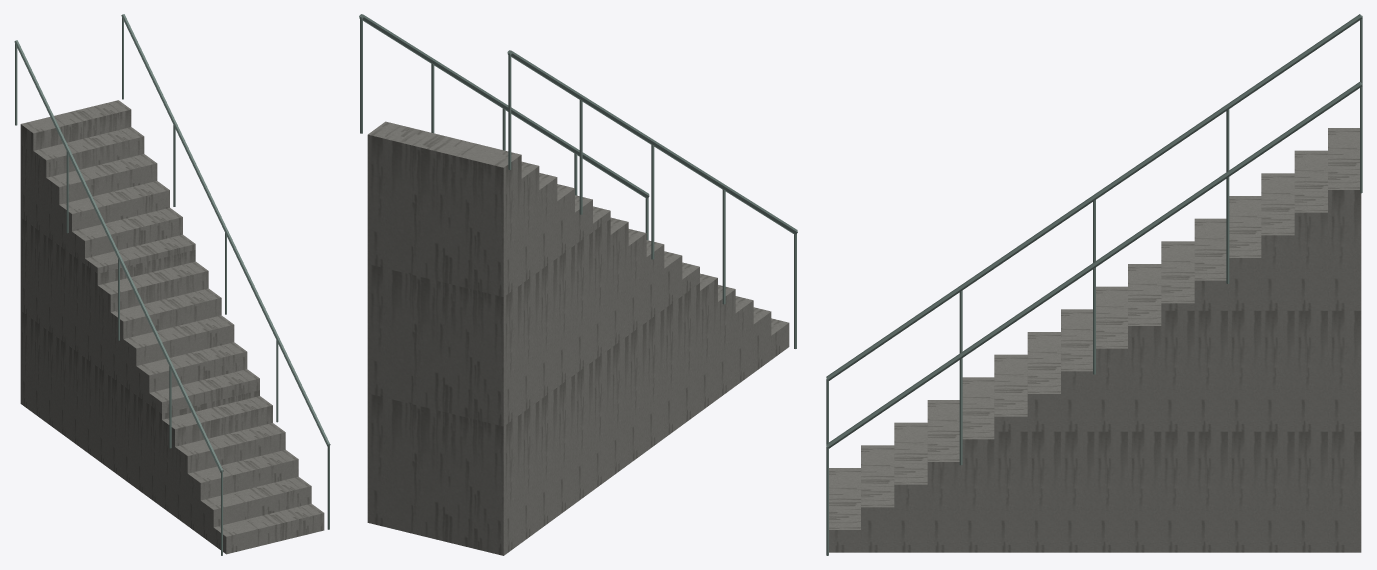
The model's file is stairs_narrow.glb.
3 views of the same model, side by side, from view 1: azimuth 30°, elevation 25°; view 2: azimuth 150°, elevation 25°; view 3: azimuth 270°, elevation 25° (orthographic). The views are drawn at different scales.
Parts seen in each view (by area): view 1: stairs_narrow; view 2: stairs_narrow; view 3: stairs_narrow.
Part boxes in pixels (box(x1,y1,x2,y2)): stairs_narrow: box(14, 14, 330, 555); stairs_narrow: box(359, 14, 797, 555); stairs_narrow: box(826, 14, 1362, 555).
Bounding box in the file's own units: 1.24 × 3.91 × 4.02.
Materials: 2 (1 with a texture image).
